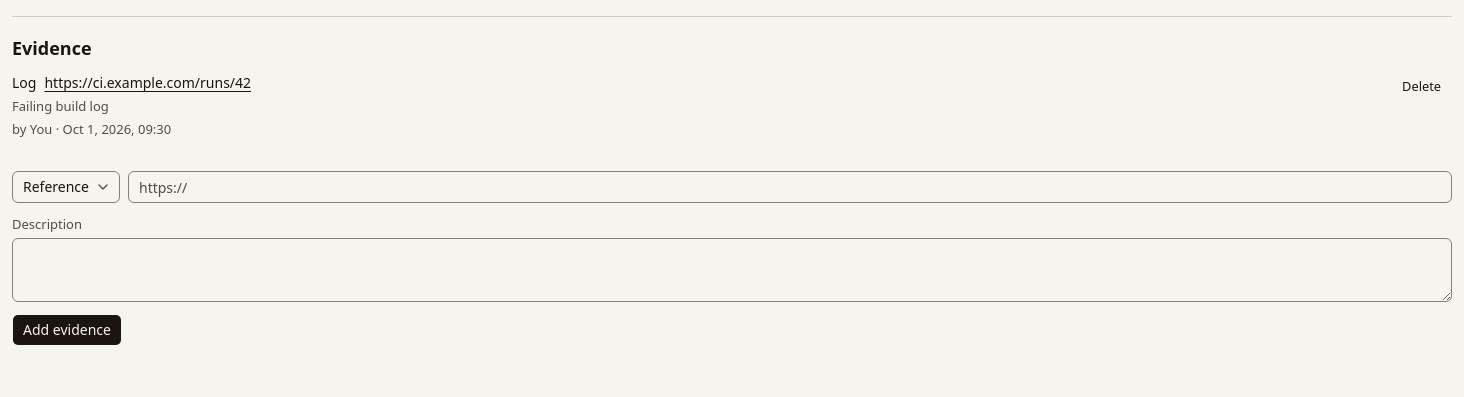
Test: EvidenceSection › rejects a link that is not http or https and sends nothing
The image size is (1464, 397).
Expected: the text "Failing build log" is shown, x1=12 y1=97 x2=109 y2=115
In the field named "Evidence URL": point(790, 187) x1=128 y1=171 x2=1452 y2=203, type "ftp://files.example.com/log.txt"
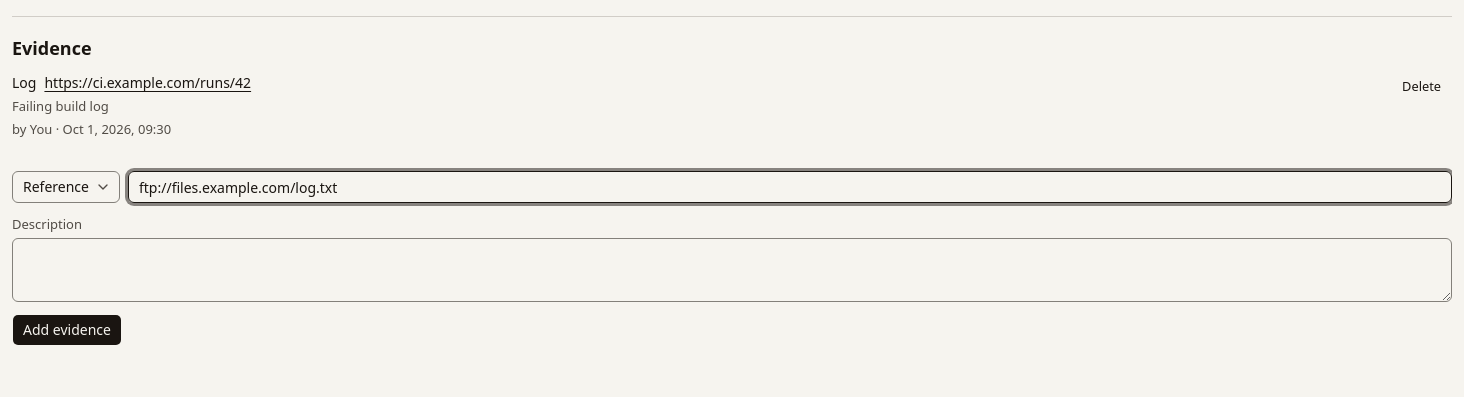
Click the button "Add evidence": point(67, 330) x1=12 y1=314 x2=122 y2=346
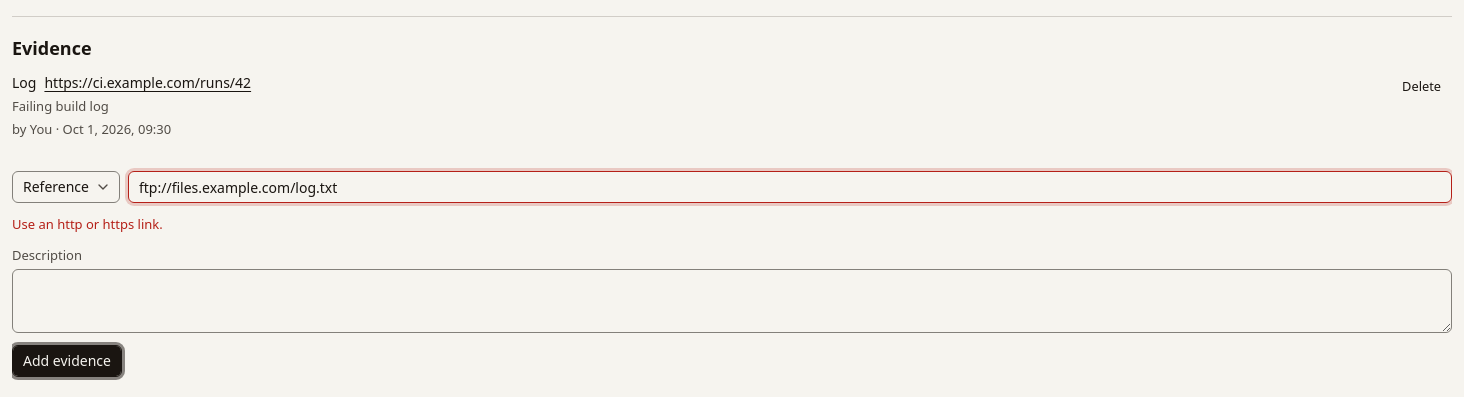
Now the text "Use an http or https link." is shown, box x1=12 y1=215 x2=163 y2=233
